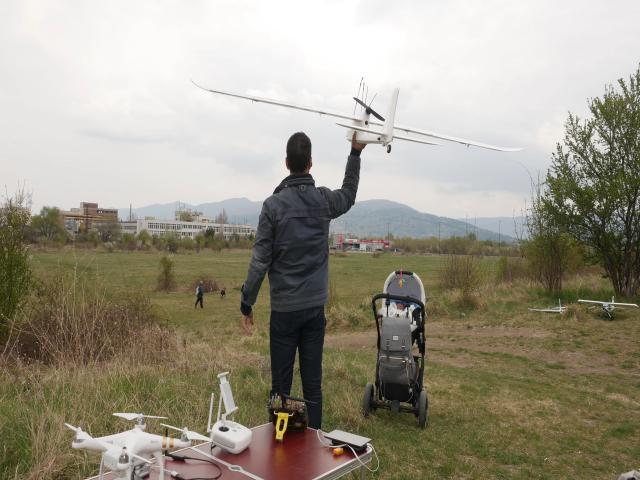plane: (190, 76, 522, 154)
